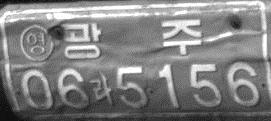0: (21, 69, 54, 111)
1: (151, 63, 183, 109)
5: (115, 65, 149, 108), (190, 63, 222, 108)
6: (226, 61, 259, 107), (56, 68, 89, 110)
광주_D: (61, 19, 202, 60)
라: (90, 72, 113, 106)
영: (19, 24, 54, 63)
